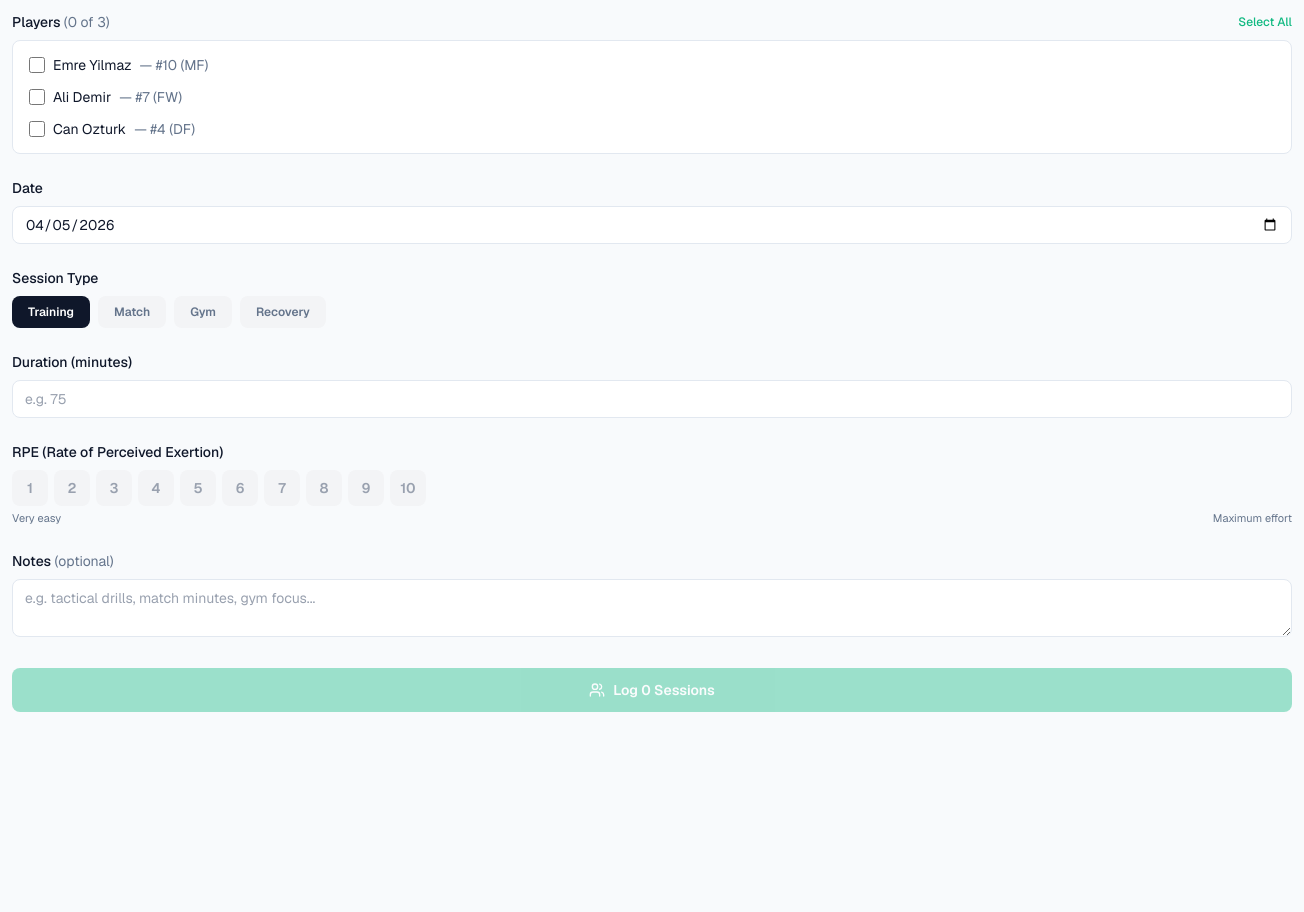
Test case: BulkSessionForm › shows validation errors from API on 400
Click the button "Select All": (1265,22) [1238,14,1292,30]
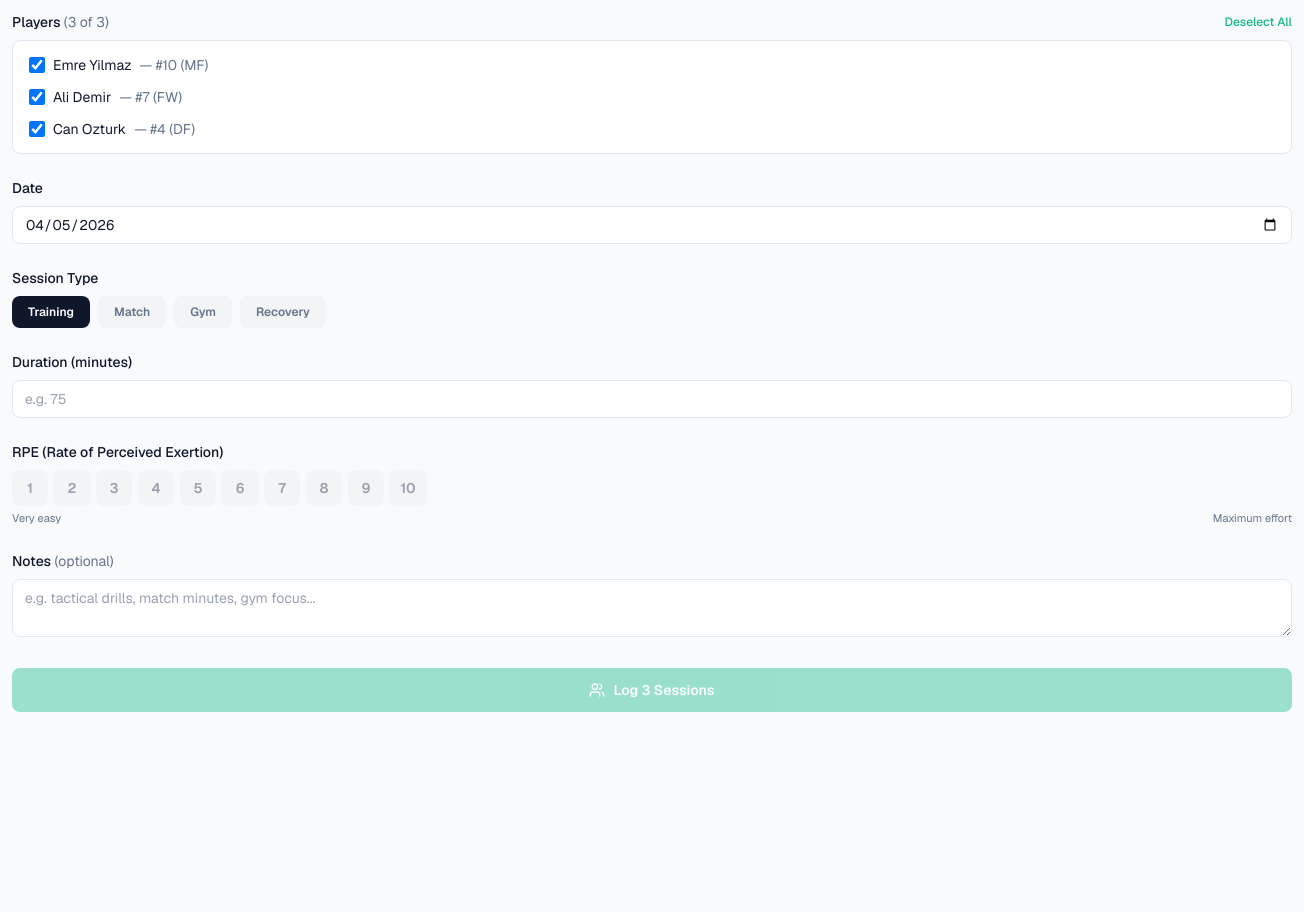
In the number field labelled "Duration (minutes)": (652,399) [12,380,1292,418], type "75"
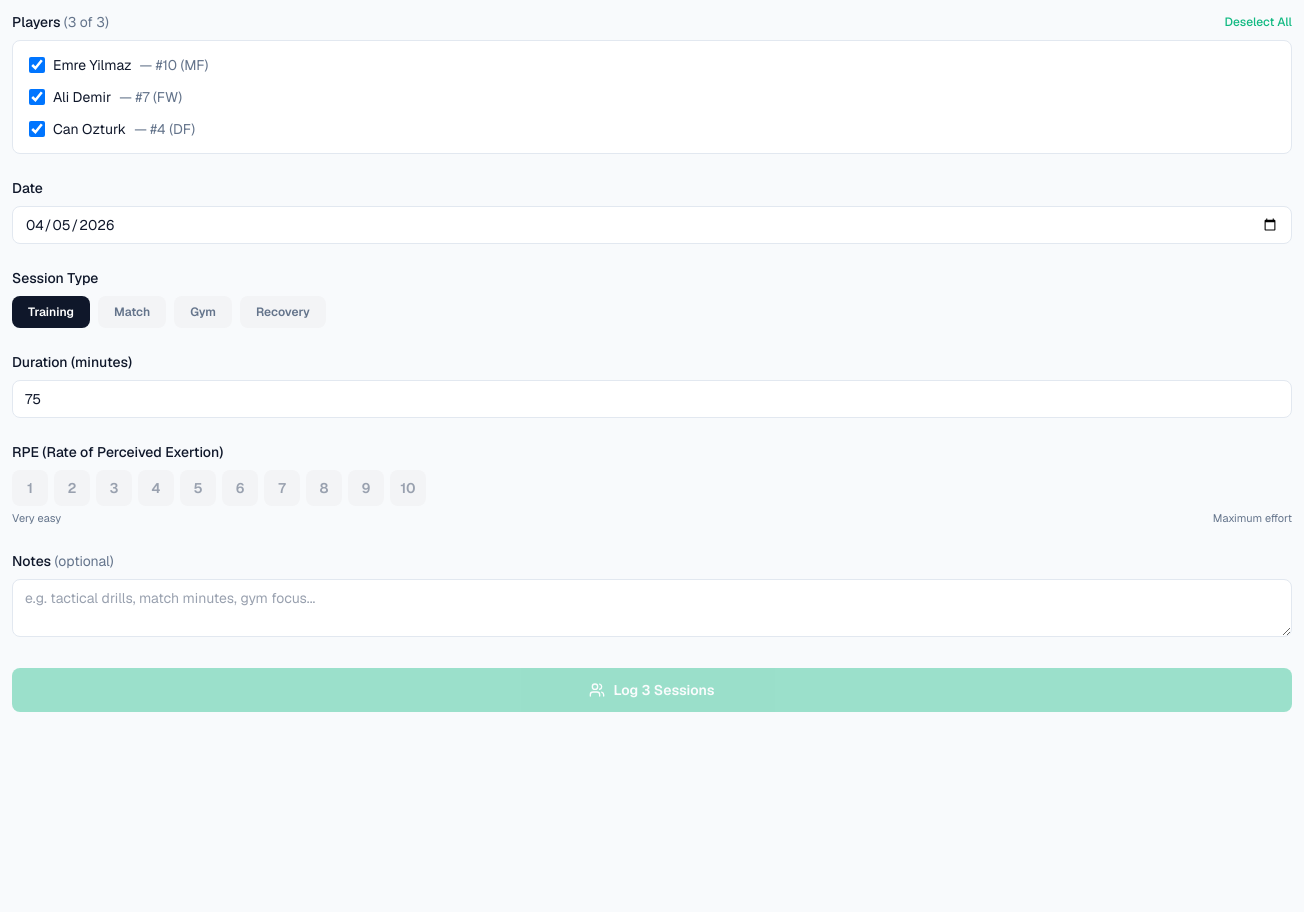
Click the button "6": (240,488) [222,470,258,506]
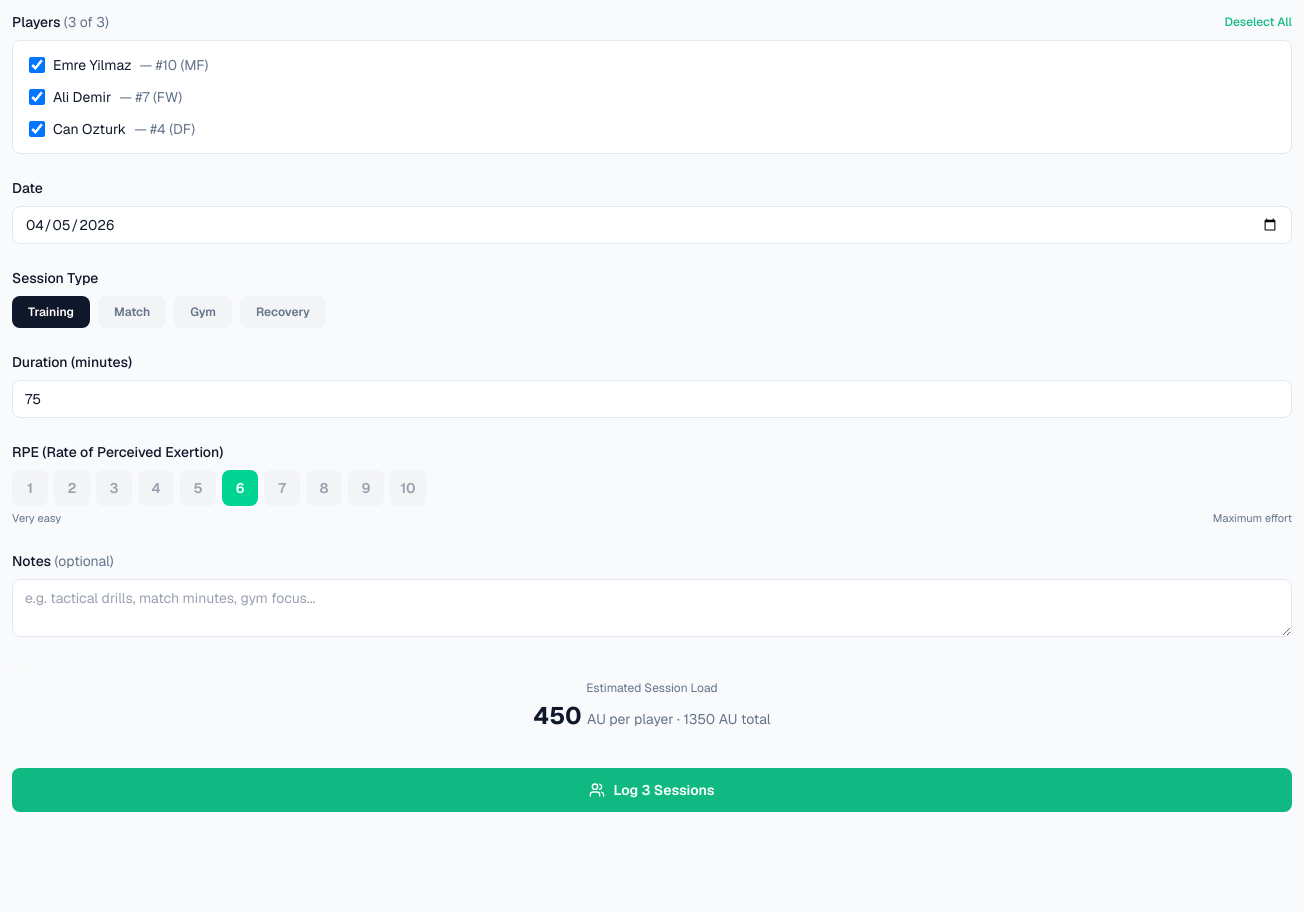
Click the button "Log 3 Sessions": (652,790) [12,768,1292,812]
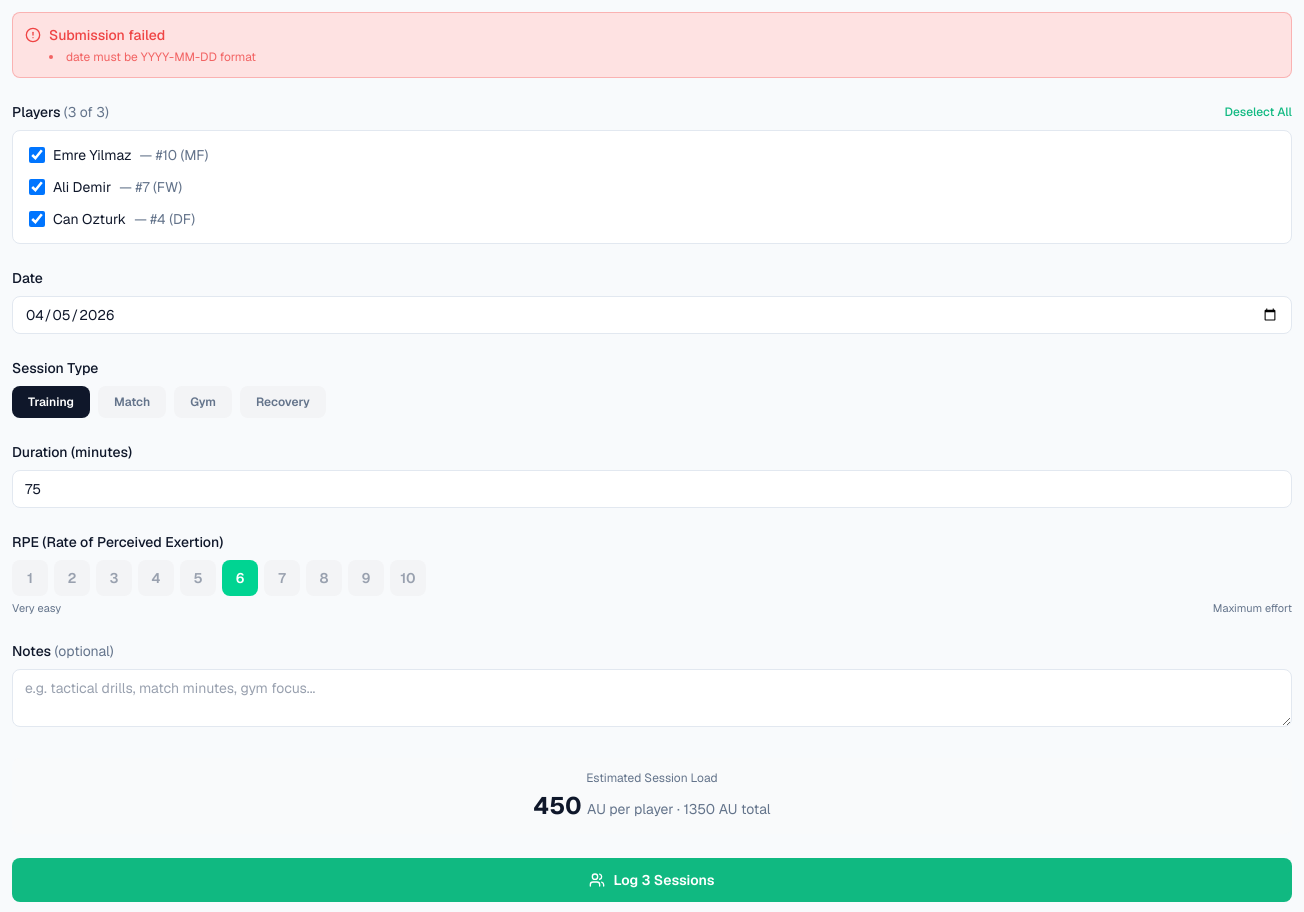
Check: the text "Submission failed" is shown, box [49,26,165,44]
Check: the list item "date must be YYYY-MM-DD format" is shown, box [49,49,256,65]
